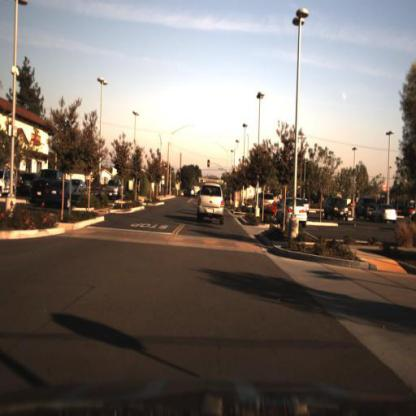car: (196, 177, 230, 235), (274, 194, 309, 230), (44, 176, 78, 212), (324, 194, 352, 224), (324, 194, 351, 223), (29, 167, 49, 204), (51, 182, 80, 207), (1, 166, 20, 202), (100, 177, 125, 203), (15, 170, 33, 205), (103, 176, 128, 201), (353, 197, 375, 223), (374, 202, 397, 226), (70, 176, 93, 197), (253, 192, 274, 213), (303, 196, 315, 215)
trafficLight-Red: (176, 172, 181, 182)
trafficLight-Yellow: (207, 161, 211, 173)
